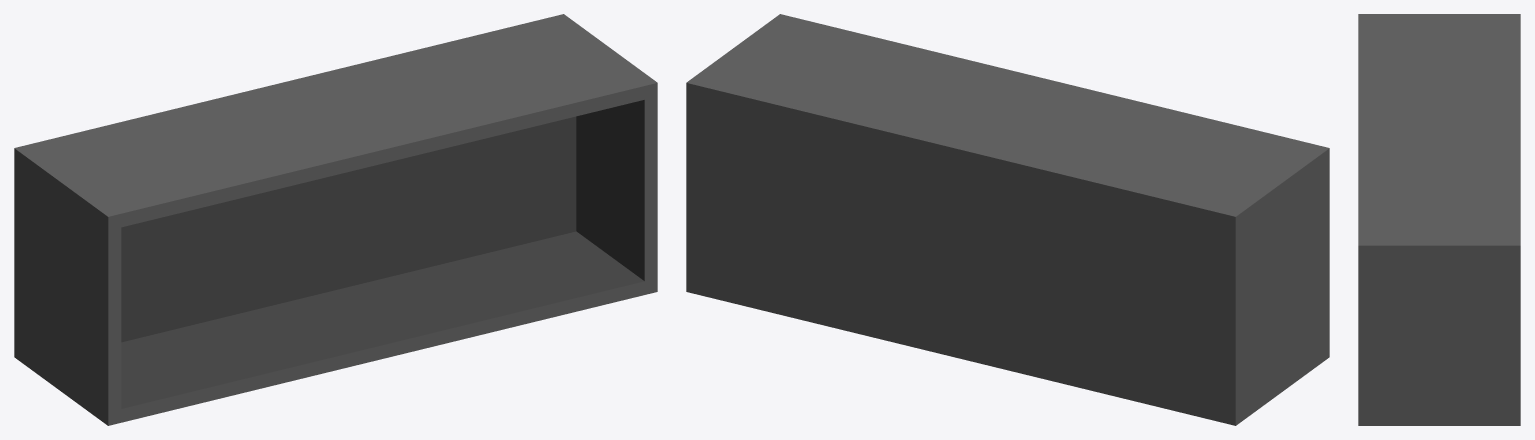
The model's file is Shelf.fbx.
3 renders of one model, left to right at view 1: azimuth 30°, elevation 25°; view 2: azimuth 150°, elevation 25°; view 3: azimuth 270°, elevation 25°, orthographic. The views are drawn at different scales.
Parts seen in each view (by area): view 1: Shelf; view 2: Shelf; view 3: Shelf.
Boxes of the visible parts, x1,y1,x2,y2 form: Shelf: [14, 14, 657, 425]; Shelf: [686, 14, 1329, 425]; Shelf: [1358, 14, 1520, 425].
Bounding box in the file's own units: 153 × 55.57 × 45.28.
